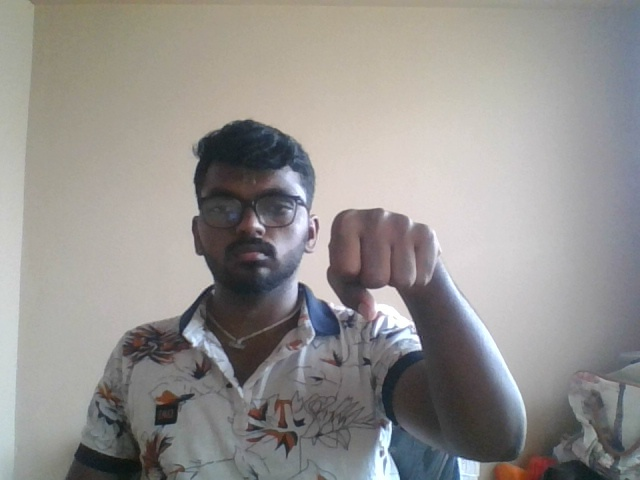Yes: (309, 189, 459, 348)
